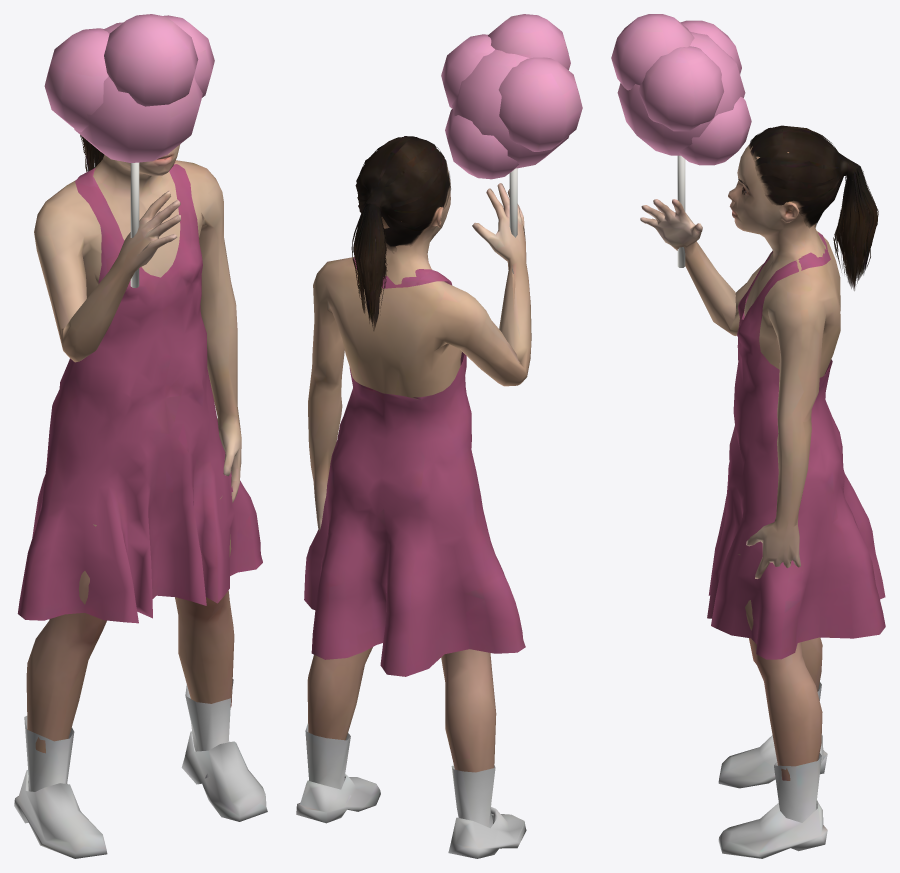
Rendered from mq-kid_candy.glb.
3 renders of one model, left to right at view 1: azimuth 30°, elevation 25°; view 2: azimuth 150°, elevation 25°; view 3: azimuth 270°, elevation 25°, orthographic. The views are drawn at different scales.
Visible parts, largest first — view 1: MQ_kid_candy; view 2: MQ_kid_candy; view 3: MQ_kid_candy.
Part boxes in pixels (x1,y1,x2,y2): MQ_kid_candy: (14, 14, 267, 858); MQ_kid_candy: (296, 14, 582, 858); MQ_kid_candy: (611, 14, 885, 858).
Bounding box in the file's own units: 0.4051 × 1.33 × 0.4298.
Materials: 1 (1 with a texture image).
